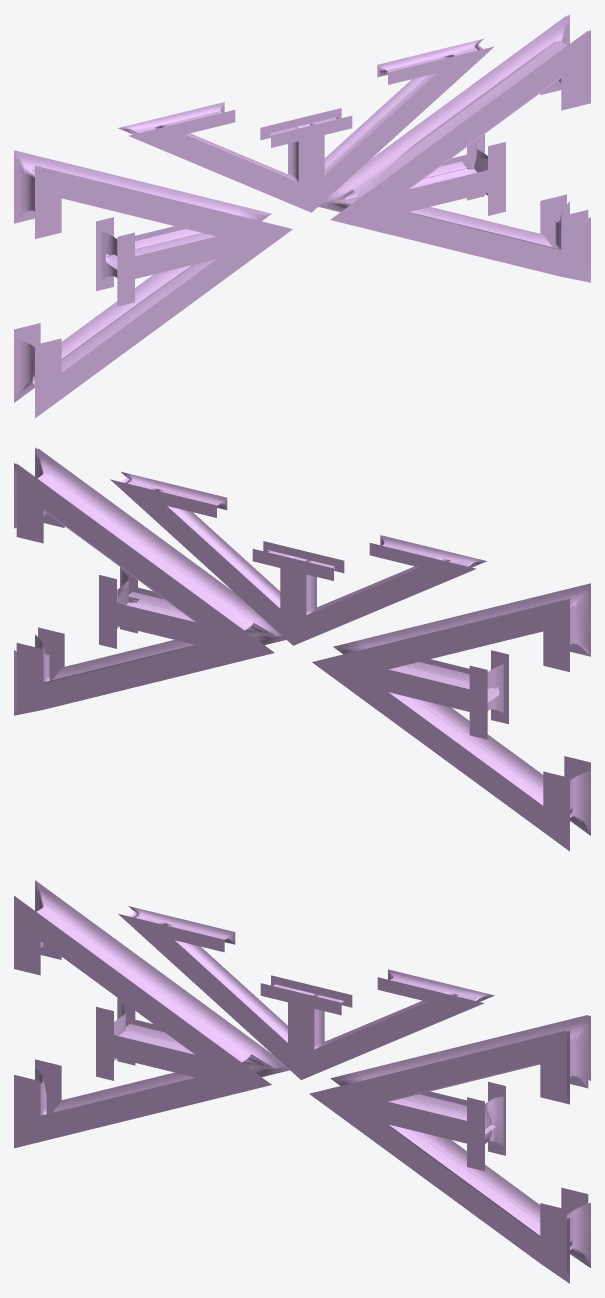
Rendered from dew.glb.
The picture shows the model from 3 angles, top to bottom: view 1: azimuth 30°, elevation 25°; view 2: azimuth 150°, elevation 25°; view 3: azimuth 330°, elevation 25°; orthographic projection.
Visible parts, largest first — view 1: d1; view 2: d1; view 3: d1.
Boxes of the visible parts, left/top/right/bottom form: d1: left=14, top=14, right=590, bottom=418; d1: left=14, top=447, right=590, bottom=851; d1: left=14, top=880, right=590, bottom=1283.
Size of the model in its own units: 30.47 by 13.35 by 2.
